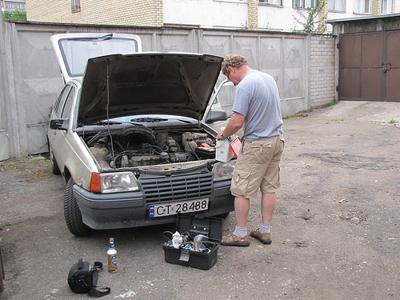person: (216, 54, 286, 249)
